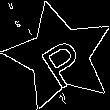P_NW: (30, 25, 89, 88)
